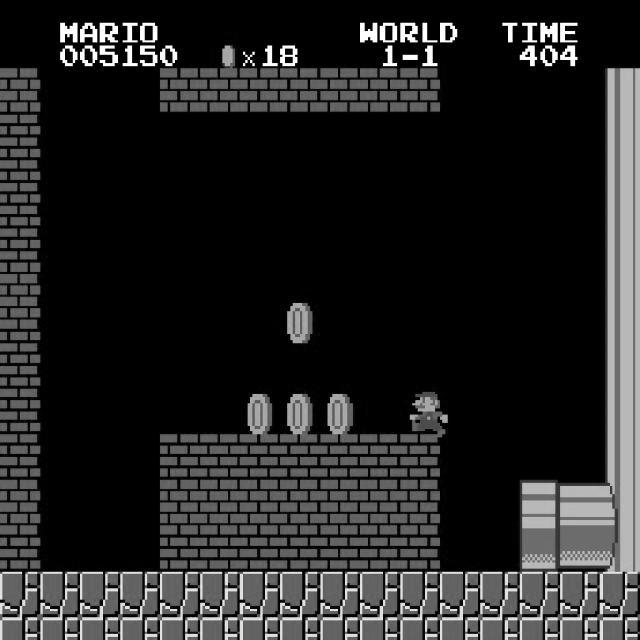1- brick_block: (0, 68, 40, 114), (0, 205, 40, 251), (0, 251, 40, 297), (0, 342, 40, 388), (0, 388, 40, 434), (0, 525, 40, 571), (160, 68, 200, 114), (160, 434, 200, 480), (160, 480, 200, 526), (160, 526, 200, 572), (200, 68, 240, 114), (200, 434, 240, 480), (200, 480, 240, 526), (200, 526, 240, 572), (240, 68, 280, 114), (240, 434, 280, 480), (240, 480, 280, 526), (240, 526, 280, 572), (280, 68, 320, 114), (280, 434, 320, 480), (280, 480, 320, 526), (280, 526, 320, 572), (320, 68, 360, 114), (320, 434, 360, 480), (320, 480, 360, 526), (320, 526, 360, 572), (360, 68, 400, 114), (360, 434, 400, 480), (360, 480, 400, 526), (360, 526, 400, 572), (400, 68, 440, 114), (400, 434, 440, 480), (400, 480, 440, 526), (400, 526, 440, 572), (0, 114, 40, 159), (0, 160, 40, 205), (0, 297, 40, 342), (0, 434, 40, 479), (0, 480, 40, 525)
11- little_mario: (405, 389, 448, 437)
14- pipe: (599, 68, 640, 114), (599, 205, 640, 251), (599, 251, 640, 297), (599, 342, 640, 388), (599, 388, 640, 434), (599, 525, 640, 571), (599, 114, 640, 159), (599, 160, 640, 205), (599, 297, 640, 342), (599, 434, 640, 479), (599, 480, 640, 525), (560, 480, 600, 526), (560, 526, 600, 572)
15- pipe_head: (520, 480, 560, 526), (520, 526, 560, 572)
17- undestructible_block: (599, 571, 640, 617), (0, 571, 40, 617), (40, 572, 80, 618), (80, 572, 120, 618), (120, 572, 160, 618), (160, 572, 200, 618), (200, 572, 240, 618), (240, 572, 280, 618), (280, 572, 320, 618), (320, 572, 360, 618), (360, 572, 400, 618), (400, 572, 440, 618), (440, 572, 480, 618), (480, 572, 520, 618), (520, 572, 560, 618), (560, 572, 600, 618), (40, 617, 80, 640), (80, 617, 120, 640), (120, 617, 160, 640), (160, 617, 200, 640), (200, 617, 240, 640), (240, 617, 280, 640), (280, 617, 320, 640), (320, 617, 360, 640), (360, 617, 400, 640), (400, 617, 440, 640), (440, 617, 480, 640), (480, 617, 520, 640), (520, 617, 560, 640), (560, 617, 600, 640), (599, 617, 640, 639), (0, 617, 40, 639)
2- coin: (240, 388, 280, 434), (280, 297, 320, 343), (280, 388, 320, 434), (320, 388, 360, 434)
